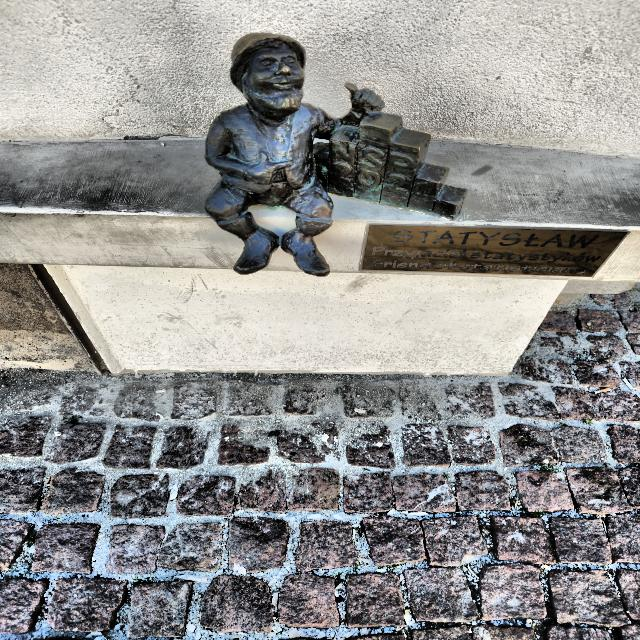Statyslaw: (205, 34, 467, 276)
